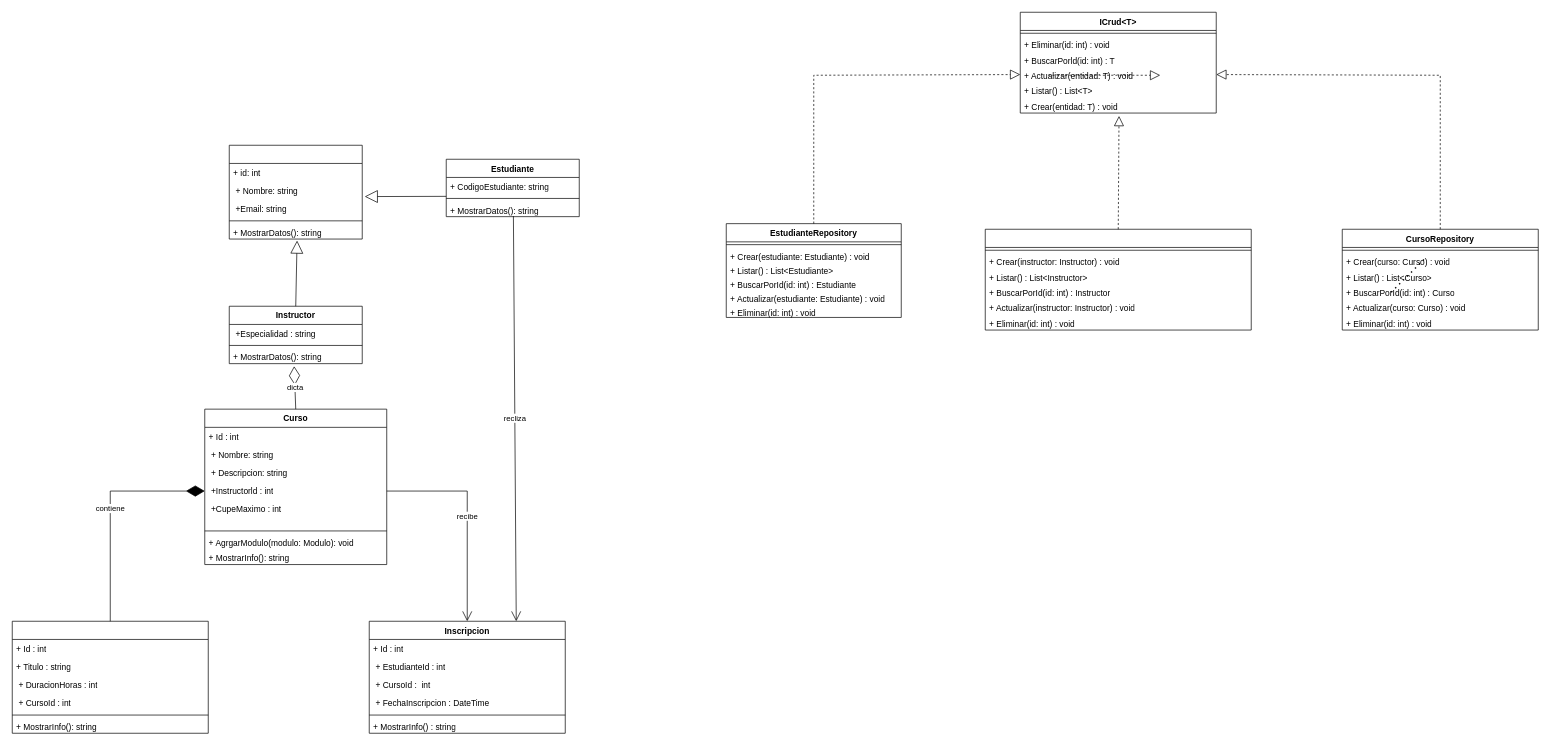
Image size: 1551x748. Some labels were removed from this diagram. Each missing label, with the box of its shape:
InstructorRepository: (985, 229, 1251, 330)
Modulo: (12, 621, 208, 733)
Usuario: (229, 145, 362, 239)
